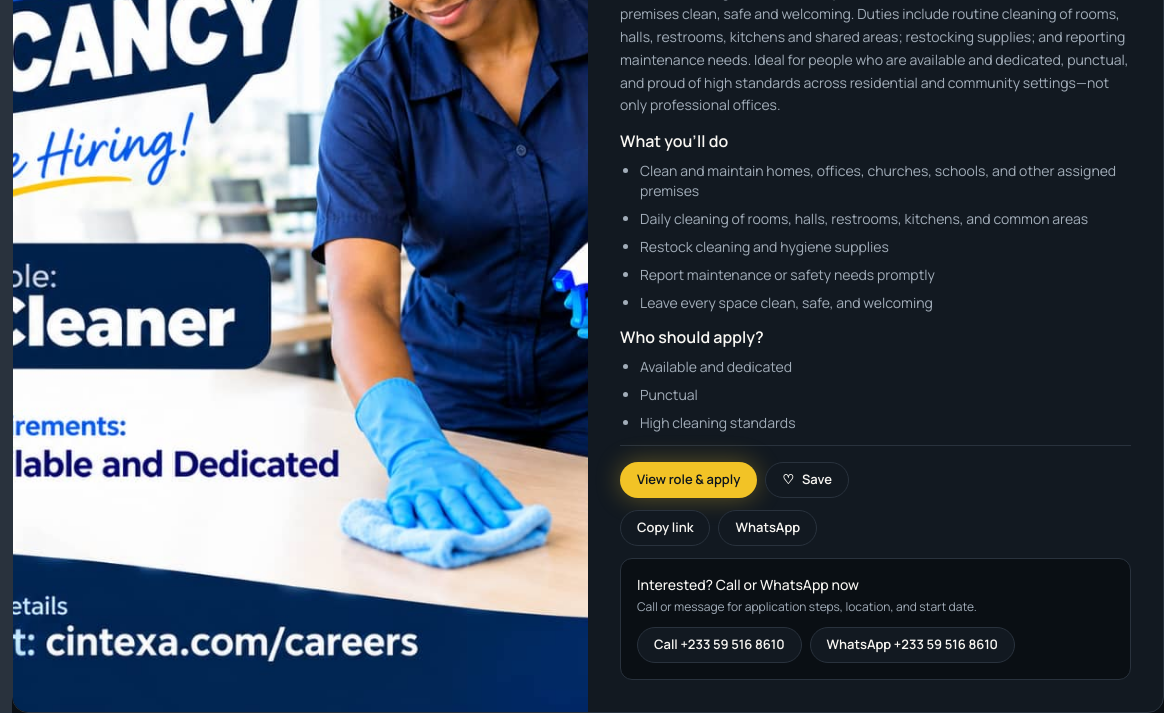
Test: JobCard › copies that vacancy's own link
The width and height of the screenshot is (1164, 713).
(page scrolled)
Click the button "Copy link": (665, 528) [620,510,710,546]
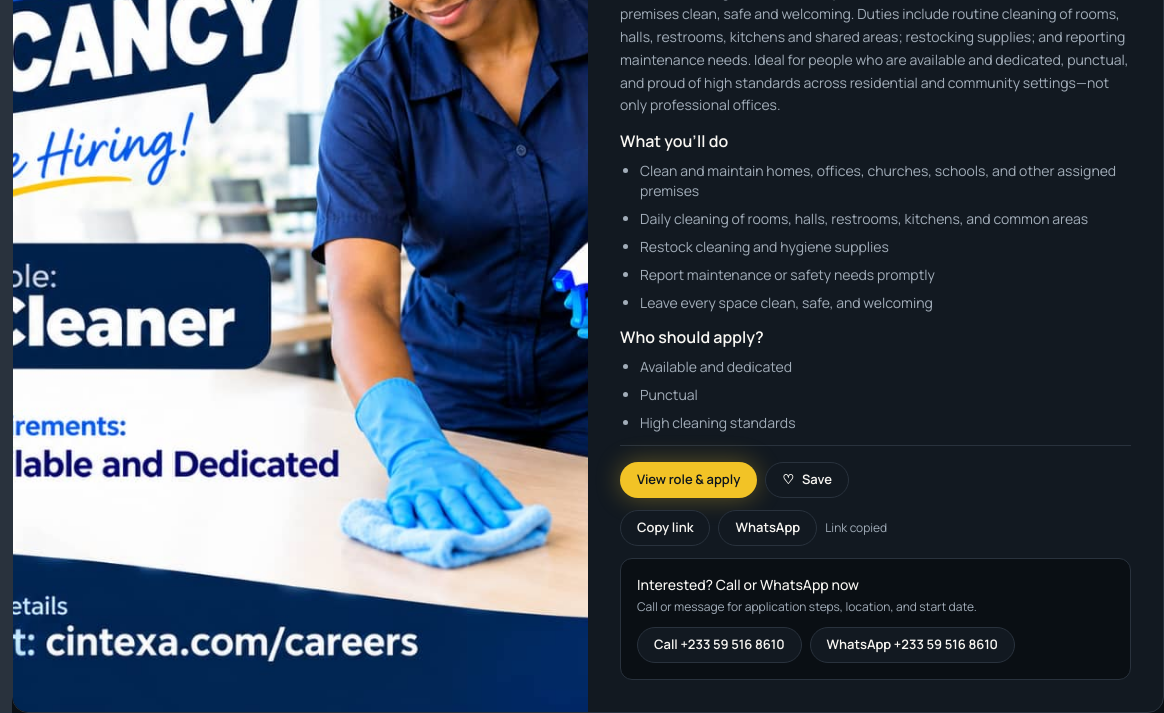
Expected: the text "Link copied" is shown, [825,520,887,536]
